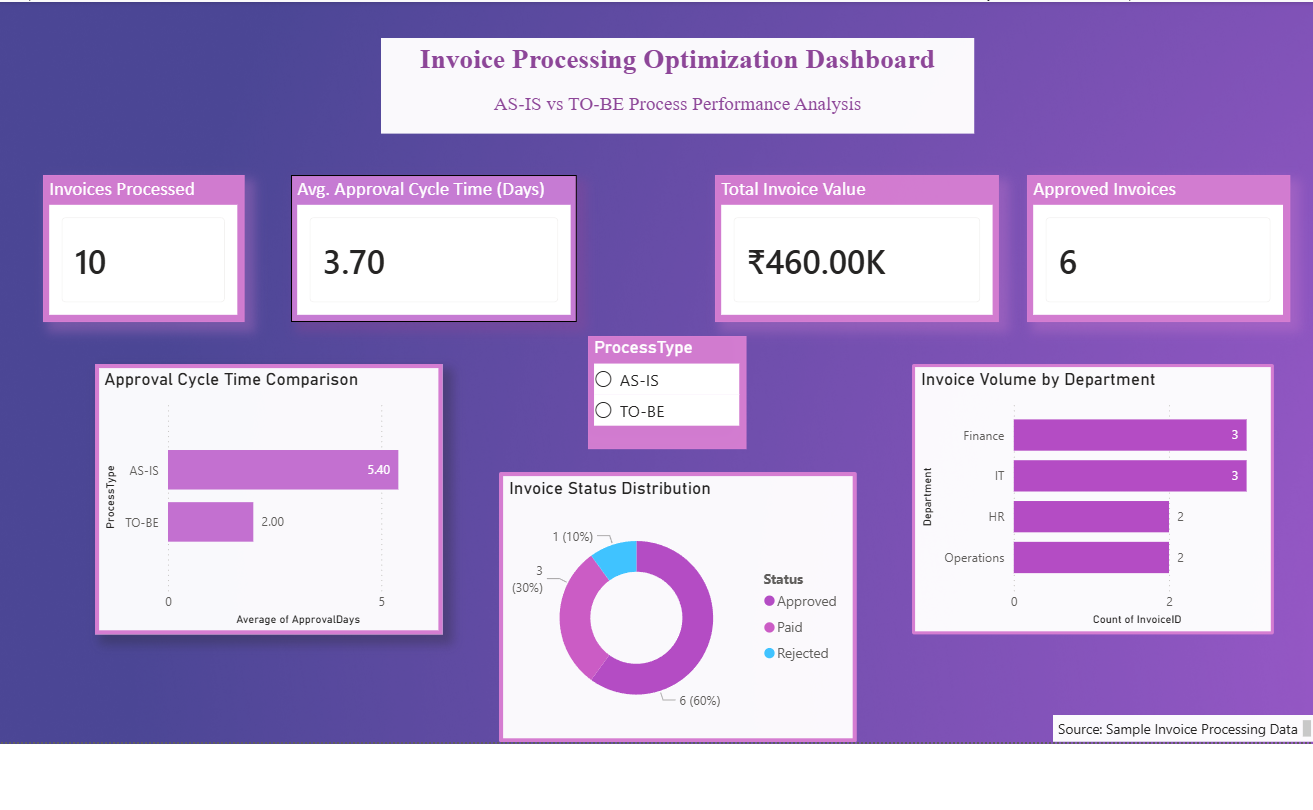

The dashboard page shown, as its layout file describes it:
{"tool":"powerbi","page":{"name":"Page 1","canvas":[1280,720],"ordinal":0},"visuals":[{"type":"clusteredBarChart","title":"Approval Cycle Time Comparison","fields":{"Category":["Sheet1.ProcessType"],"Y":["Avg(Sheet1.ApprovalDays)"]},"box":[92.4,352.1,337.5,262.6],"z":0},{"type":"cardVisual","title":"Invoices Processed","fields":{"Data":["CountNonNull(Sheet1.InvoiceID)"]},"box":[41.8,168.3,195.5,143],"z":1000},{"type":"cardVisual","title":"Avg. Approval Cycle Time (Days)","fields":{"Data":["Avg(Sheet1.ApprovalDays)"]},"box":[283,168.3,278.2,143],"z":2000},{"type":"cardVisual","title":"Total Invoice Value","fields":{"Data":["Sum(Sheet1.InvoiceAmount)"]},"box":[695.4,168.3,276.2,143],"z":3000},{"type":"donutChart","title":"Invoice Status Distribution","fields":{"Y":["CountNonNull(Sheet1.InvoiceID)"],"Category":["Sheet1.Status"]},"box":[485.3,457.1,348.2,262.6],"z":4000},{"type":"clusteredBarChart","title":"Invoice Volume by Department","fields":{"Category":["Sheet1.Department"],"Y":["CountNonNull(Sheet1.InvoiceID)"]},"box":[887.1,352.1,352.1,262.6],"z":5000},{"type":"listSlicer","fields":{"Values":["Sheet1.ProcessType"]},"box":[571.9,324.9,153.7,109.9],"z":6000},{"type":"textbox","box":[370.6,35,576.8,93.4],"z":7000},{"type":"cardVisual","title":"Approved Invoices","fields":{"Data":["CountNonNull(Sheet1.Status)"]},"box":[998.9,168.3,255.8,143],"z":8000},{"type":"textbox","box":[1024.2,693.5,255.8,26.3],"z":8001}]}

Visuals, with their boxes in screenshot pixels (x1, y1, x2, y2):
"Approval Cycle Time Comparison" clusteredBarChart: {"left": 100, "top": 360, "right": 442, "bottom": 625}
"Invoices Processed" cardVisual: {"left": 49, "top": 174, "right": 247, "bottom": 318}
"Avg. Approval Cycle Time (Days)" cardVisual: {"left": 293, "top": 174, "right": 575, "bottom": 318}
"Total Invoice Value" cardVisual: {"left": 710, "top": 174, "right": 990, "bottom": 318}
"Invoice Status Distribution" donutChart: {"left": 498, "top": 466, "right": 850, "bottom": 731}
"Invoice Volume by Department" clusteredBarChart: {"left": 904, "top": 360, "right": 1260, "bottom": 625}
listSlicer - Sheet1.ProcessType: {"left": 585, "top": 332, "right": 741, "bottom": 443}
textbox: {"left": 382, "top": 39, "right": 965, "bottom": 133}
"Approved Invoices" cardVisual: {"left": 1017, "top": 174, "right": 1276, "bottom": 318}
textbox: {"left": 1043, "top": 705, "right": 1302, "bottom": 732}
